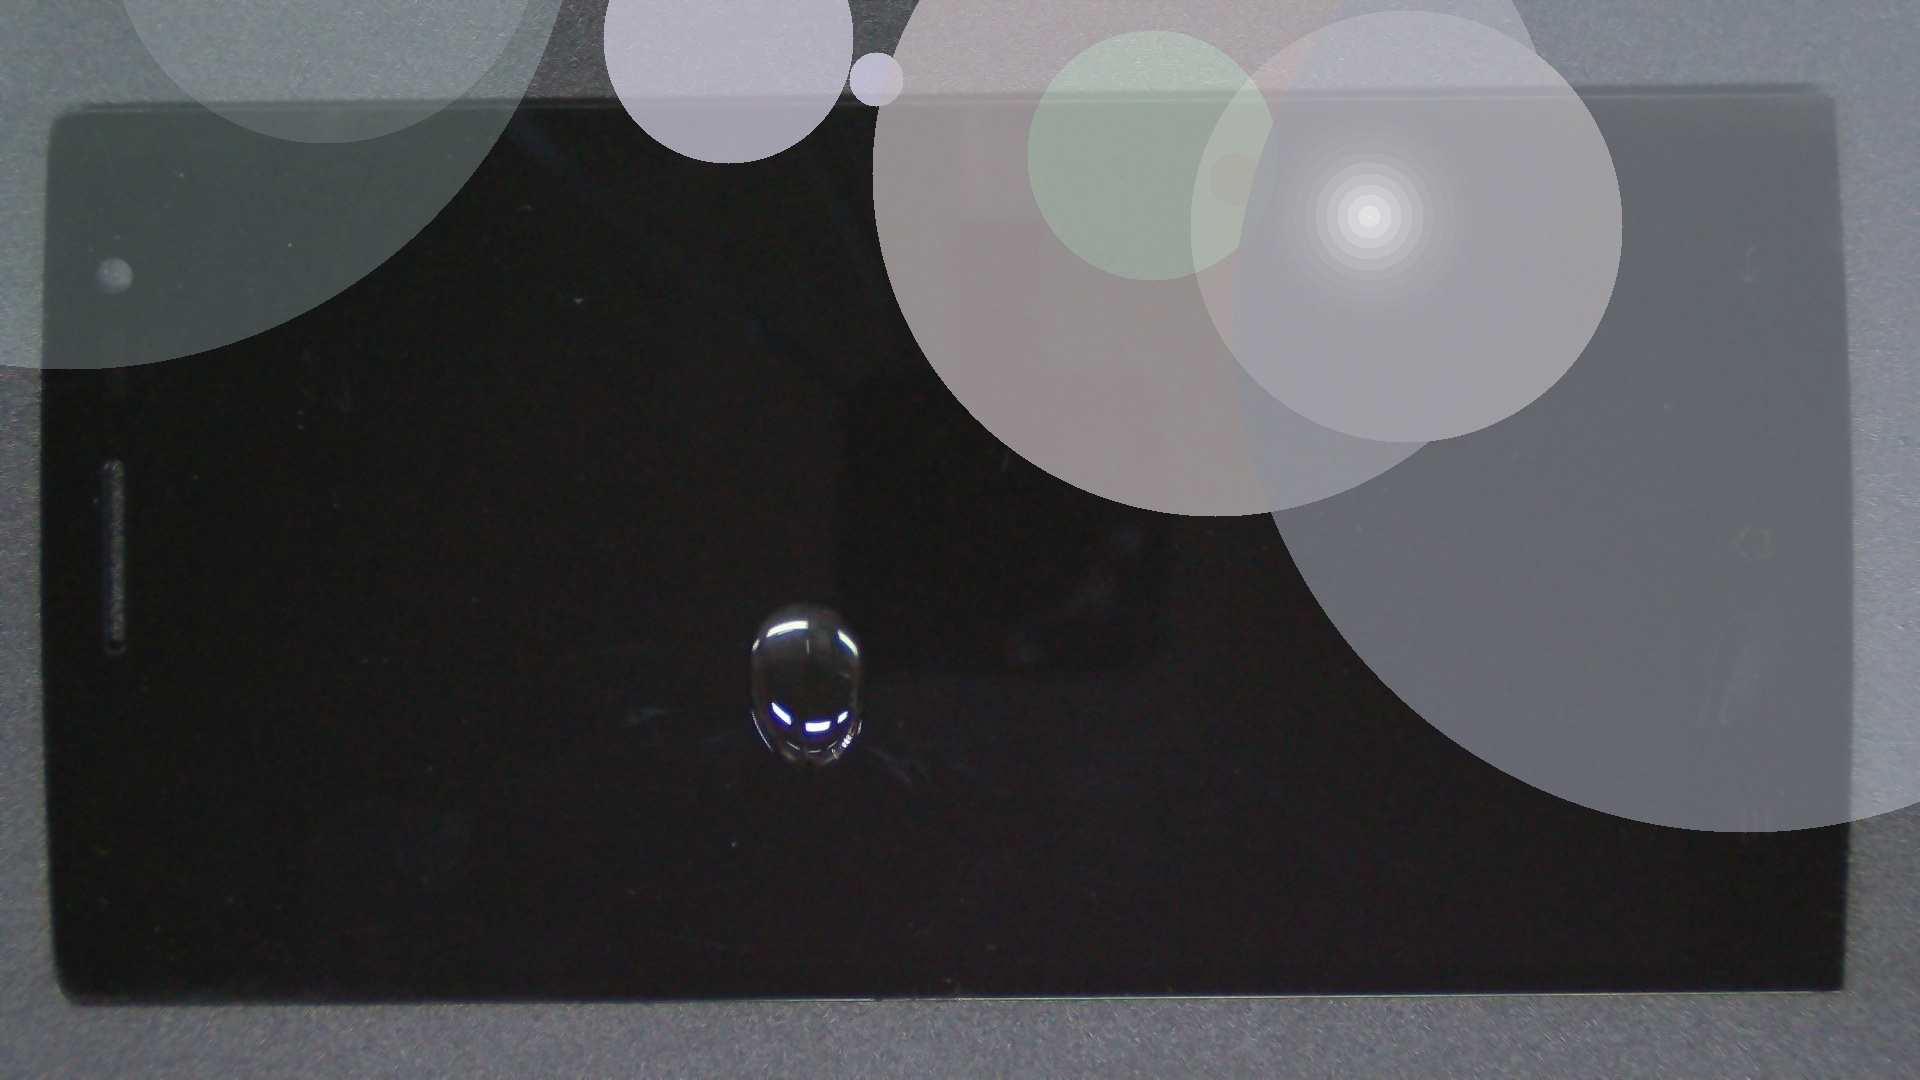oil: (400, 301, 1196, 905)
